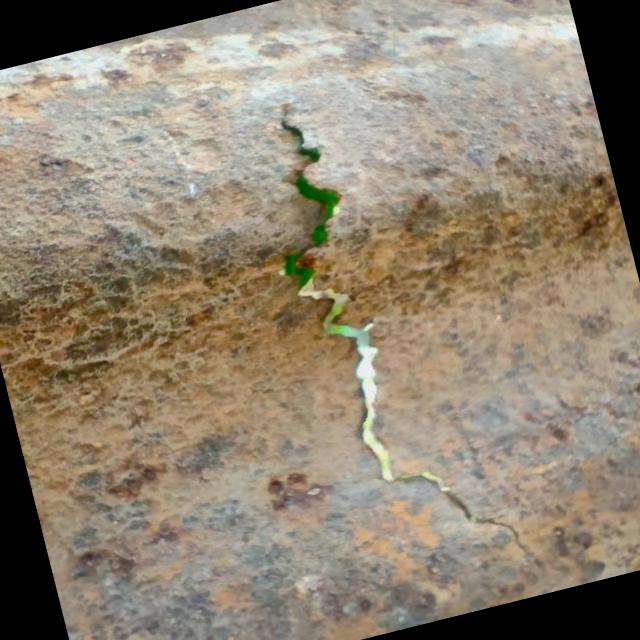defect: (271, 110, 548, 573)
